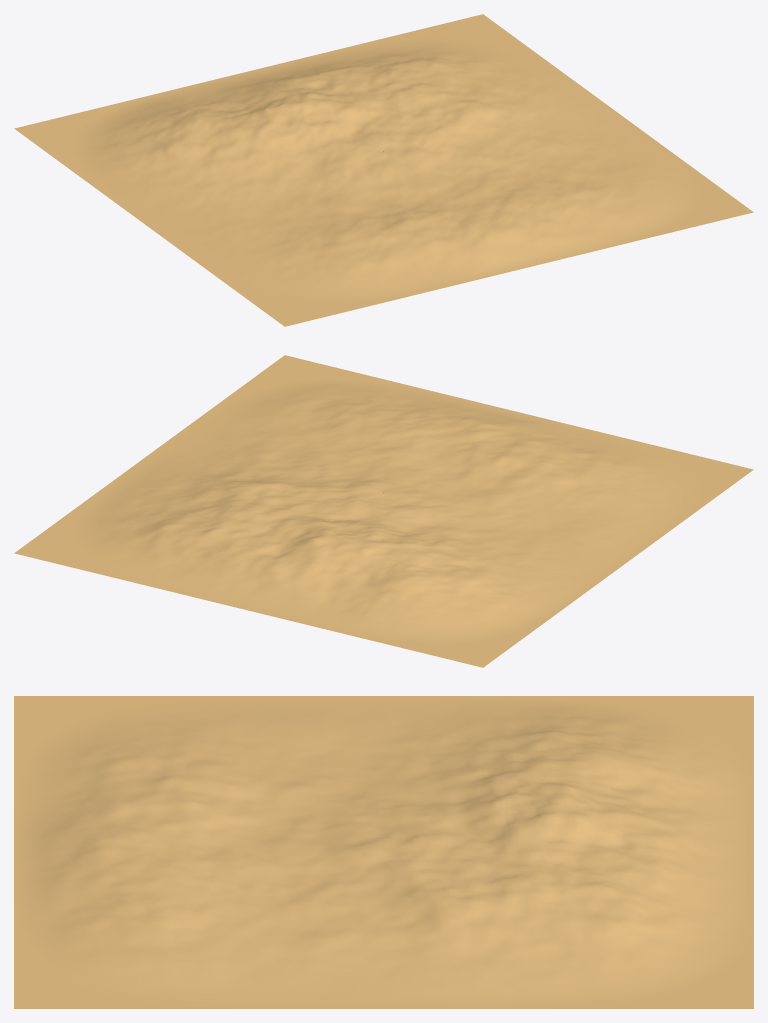
Rendered from Terrain.fbx.
The picture shows the model from 3 angles, top to bottom: view 1: azimuth 30°, elevation 25°; view 2: azimuth 150°, elevation 25°; view 3: azimuth 270°, elevation 25°; orthographic projection. The views are drawn at different scales.
Parts seen in each view (by area): view 1: Landscape; view 2: Landscape; view 3: Landscape.
Part boxes in pixels (x1=…): Landscape: x1=14, y1=14, x2=753, y2=326; Landscape: x1=14, y1=355, x2=753, y2=667; Landscape: x1=14, y1=696, x2=753, y2=1008.
Size of the model in its own units: 134254 by 7016 by 134254.
